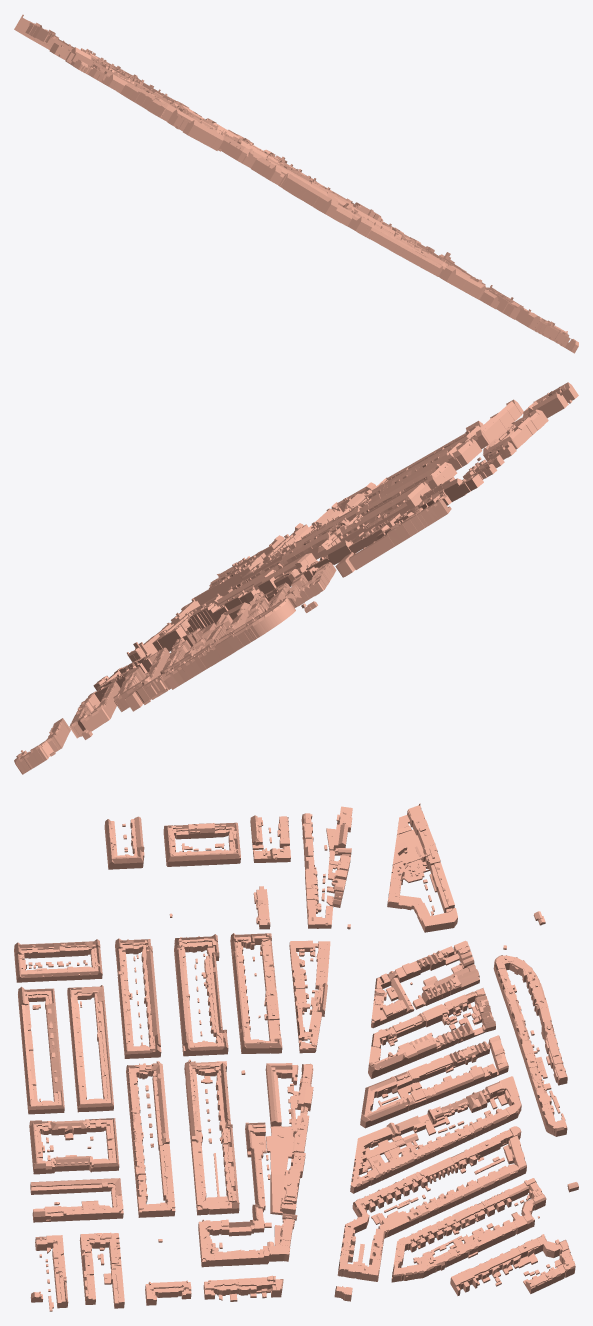
3 views of the same model, one above another, from view 1: azimuth 30°, elevation 25°; view 2: azimuth 150°, elevation 25°; view 3: azimuth 270°, elevation 25° (orthographic). The views are drawn at different scales.
Bounding box in the file's own units: 1.71e+07 × 1.27e+07 × 2.05e+07.
